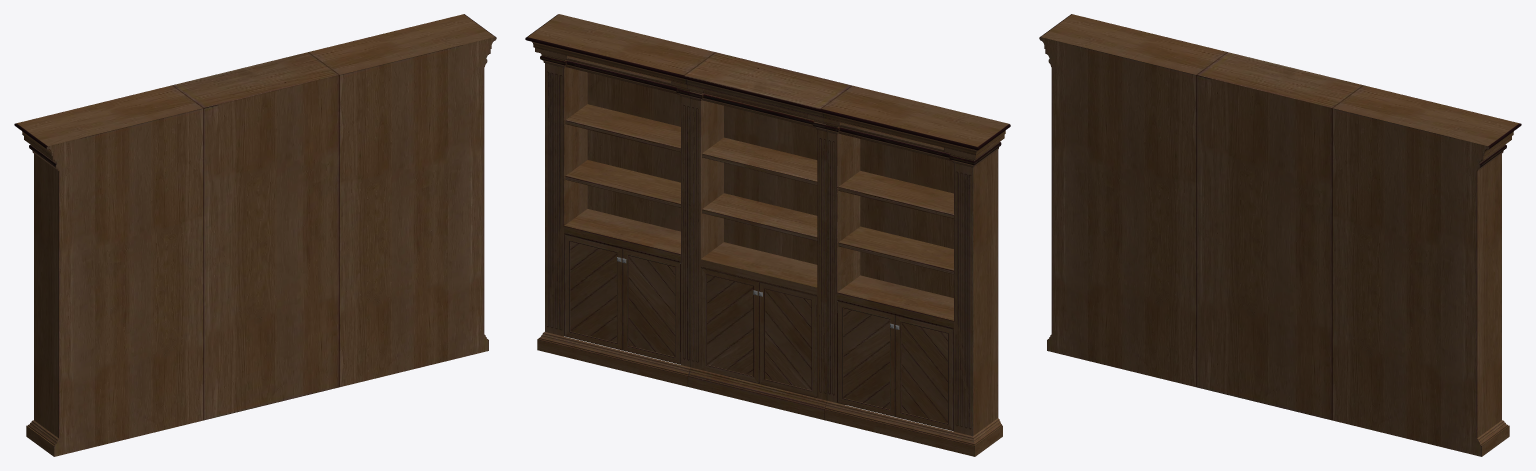
The picture shows the model from 3 angles, left to right: view 1: azimuth 30°, elevation 25°; view 2: azimuth 150°, elevation 25°; view 3: azimuth 330°, elevation 25°; orthographic projection.
Parts seen in each view (by area): view 1: re_shelf_side_R_0, re_shelf_side_L_2, re_shelf_mid_1; view 2: re_shelf_side_R_0, re_shelf_side_L_2, re_shelf_mid_1; view 3: re_shelf_side_L_2, re_shelf_side_R_0, re_shelf_mid_1.
Part boxes in pixels (x1,y1,x2,y2): re_shelf_side_R_0: [14, 85, 203, 456]; re_shelf_side_L_2: [308, 14, 496, 387]; re_shelf_mid_1: [172, 52, 339, 420]; re_shelf_side_R_0: [820, 85, 1010, 456]; re_shelf_side_L_2: [525, 14, 715, 386]; re_shelf_mid_1: [683, 52, 851, 419]; re_shelf_side_L_2: [1332, 85, 1521, 456]; re_shelf_side_R_0: [1039, 14, 1227, 387]; re_shelf_mid_1: [1196, 52, 1363, 420].
Bounding box in the file's own units: 3.32 × 2.2 × 0.4108.
2 materials, 2 textured.
